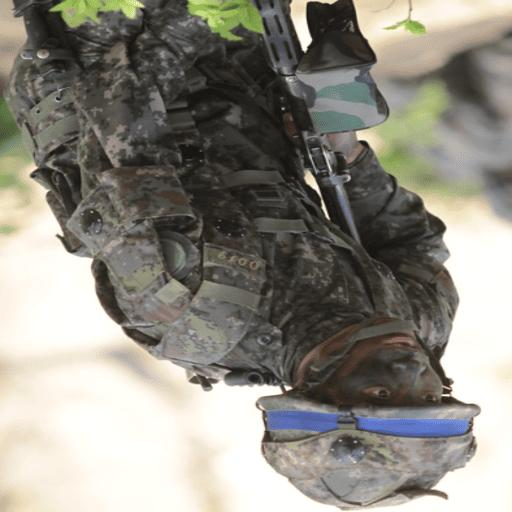korea army: (6, 0, 468, 507)
